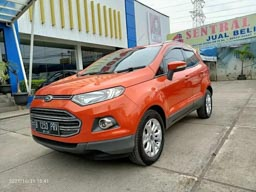plat: (34, 121, 59, 136)
